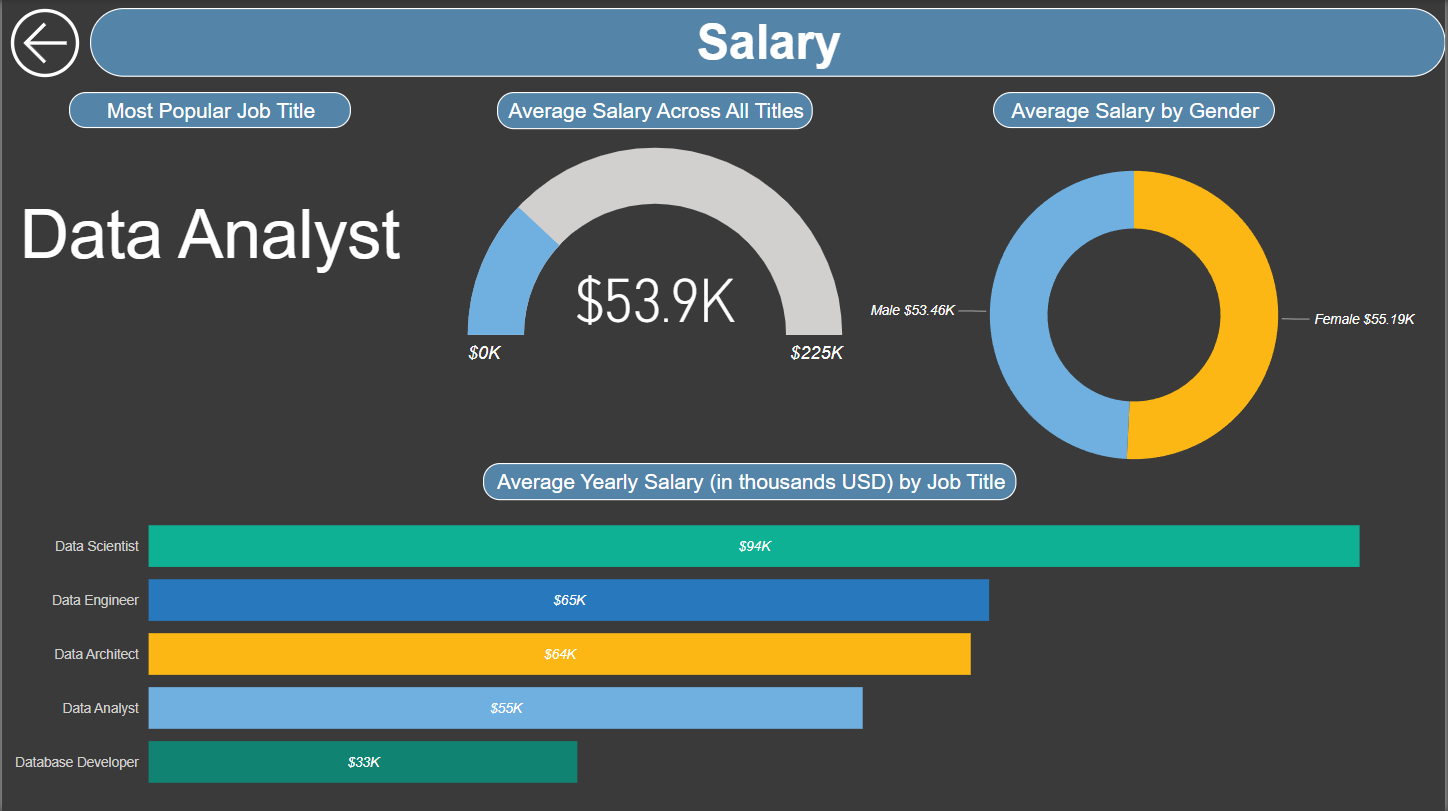

What the dashboard file says about the page in this screenshot:
{"tool":"powerbi","page":{"name":"Salary","canvas":[1280,720],"ordinal":4},"visuals":[{"type":"barChart","title":"Average Yearly Salary (in USD) by Job Title","fields":{"Category":["Data Professional Survey.Q1 - Which Title Best Fits your Current Role?.1"],"Y":["Avg(Data Professional Survey.Average Yearly Salary (in USD))"],"Series":["Data Professional Survey.Q1 - Which Title Best Fits your Current Role?.1"]},"box":[0,433.8,1280,286],"z":0},{"type":"gauge","title":"Average Salary Across all Titles","fields":{"Y":["Avg(Data Professional Survey.Average Yearly Salary (in USD))"],"MinValue":["Min(Data Professional Survey.Q3 - Min Current Yearly Salary (in USD).1)"],"MaxValue":["Max(Data Professional Survey.Q3 - Max Current Yearly Salary (in USD).2)"]},"box":[377.7,125.9,402.6,203.1],"z":1000},{"type":"donutChart","fields":{"Y":["Avg(Data Professional Survey.Average Yearly Salary (in USD))"],"Category":["Data Professional Survey.Q9 - Male/Female?"]},"box":[727.1,103.7,553.3,351.1],"z":2000},{"type":"actionButton","box":[0,0,78,76.3],"z":3000},{"type":"textbox","box":[77.6,7.1,1202.4,61.2],"z":4000},{"type":"card","fields":{"Values":["Min(Data Professional Survey.Q1 - Which Title Best Fits your Current Role?.1)"]},"box":[0,125.9,368.9,153.4],"z":5000},{"type":"textbox","box":[59.4,81.6,250,31.9],"z":6000},{"type":"textbox","box":[438.9,81.6,280.2,32.8],"z":7000},{"type":"textbox","box":[878.7,81.6,250,31.9],"z":8000},{"type":"textbox","box":[426.5,410.5,473.5,32.8],"z":9500}]}

Visuals, with their boxes in screenshot pixels (x1, y1, x2, y2), scaled from the page's 1280x720 canvas onto the 1448x811 screenshot:
"Average Yearly Salary (in USD) by Job Title" barChart: x1=0, y1=489, x2=1447, y2=810
"Average Salary Across all Titles" gauge: x1=427, y1=142, x2=883, y2=371
donutChart - Avg(Data Professional Survey.Average Yearly Salary (in USD)) x Data Professional Survey.Q9 - Male/Female?: x1=823, y1=117, x2=1447, y2=512
actionButton: x1=0, y1=0, x2=88, y2=86
textbox: x1=88, y1=8, x2=1447, y2=77
card - Min(Data Professional Survey.Q1 - Which Title Best Fits your Current Role?.1): x1=0, y1=142, x2=417, y2=315
textbox: x1=67, y1=92, x2=350, y2=128
textbox: x1=497, y1=92, x2=813, y2=129
textbox: x1=994, y1=92, x2=1277, y2=128
textbox: x1=482, y1=462, x2=1018, y2=499
